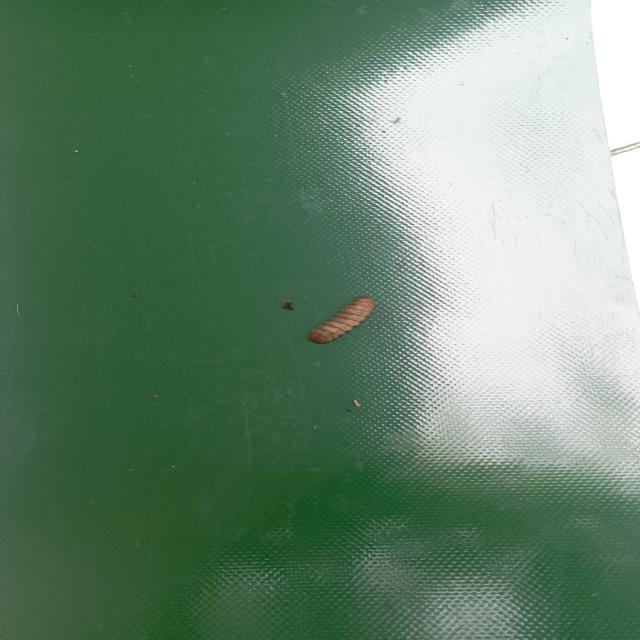Maggot: (307, 296, 376, 347)
